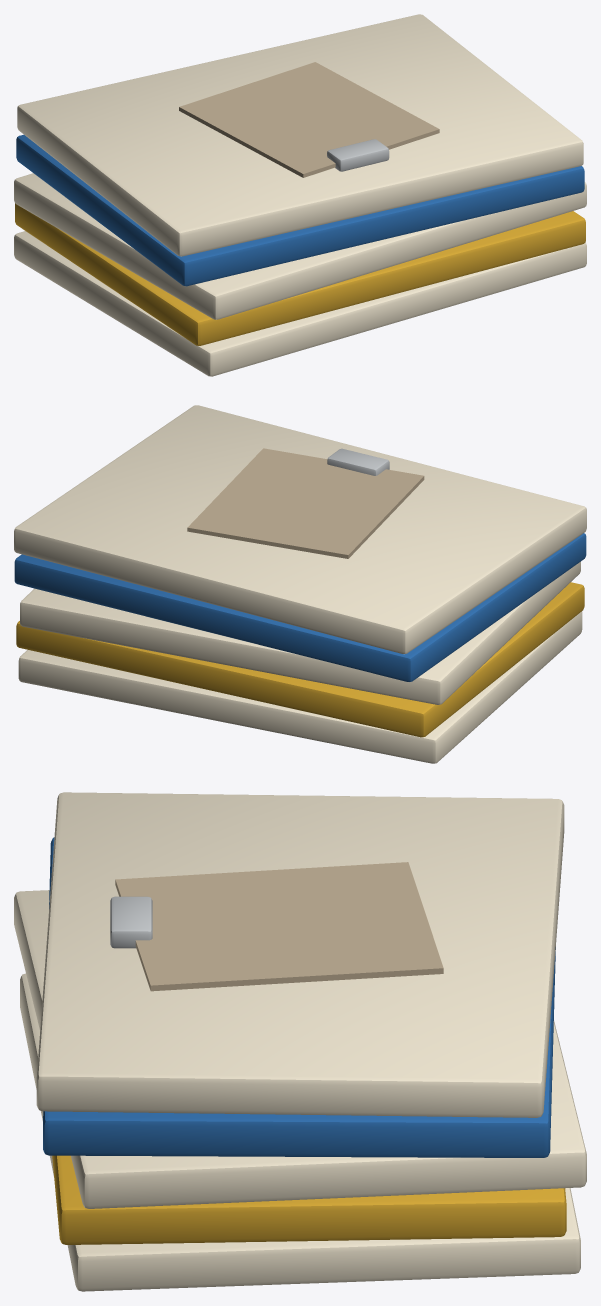
File: mae_files.glb
The picture shows the model from 3 angles, top to bottom: view 1: azimuth 30°, elevation 25°; view 2: azimuth 150°, elevation 25°; view 3: azimuth 270°, elevation 25°; orthographic projection. The views are drawn at different scales.
Visible parts, largest first — view 1: mae_files; view 2: mae_files; view 3: mae_files.
Part boxes in pixels (x1,y1,x2,y2): mae_files: [14, 14, 586, 376]; mae_files: [14, 405, 586, 763]; mae_files: [14, 792, 586, 1291].
Bounding box in the file's own units: 0.3424 × 0.12 × 0.2711.
